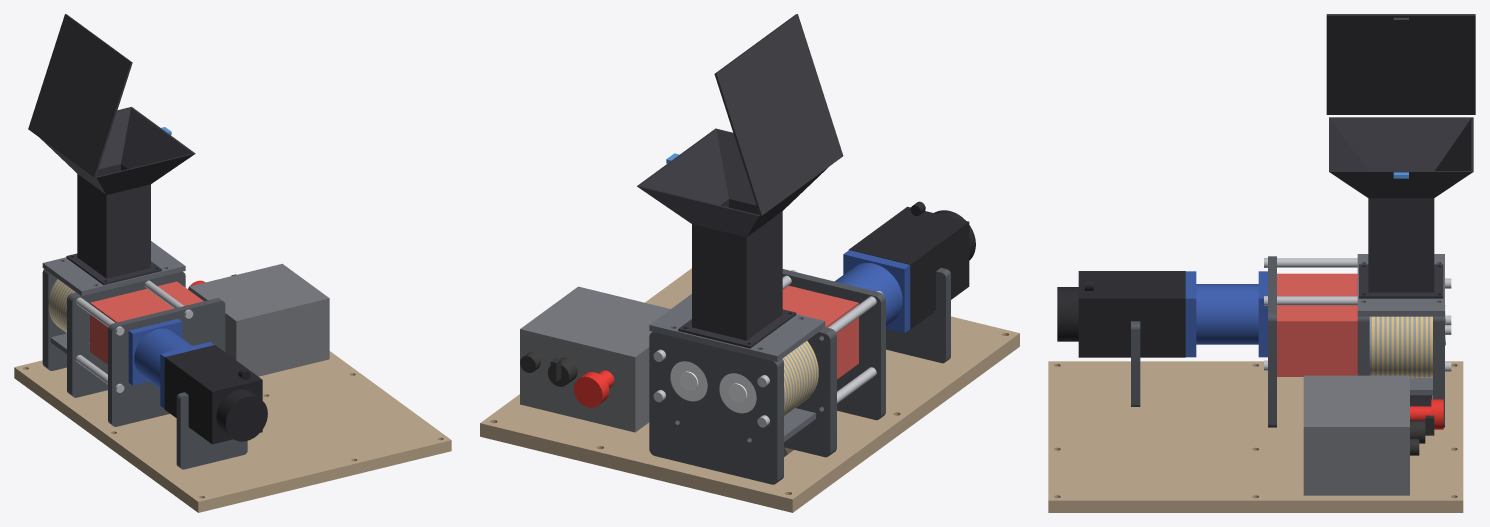
Rendered from shredder_assembly.fbx.
The picture shows the model from 3 angles, left to right: view 1: azimuth 30°, elevation 25°; view 2: azimuth 150°, elevation 25°; view 3: azimuth 270°, elevation 25°; orthographic projection. The views are drawn at different scales.
Parts seen in each view (by area): view 1: Base_Plate, Hopper_Throat_Guard, Controller_Enclosure, Hopper_Lid, Motor_NEMA34_ClosedLoop, Plate_Motor, Plate_Drive, Gearbox_Planetary_10to1, Gear_Guard, Motor_Cradle, Plate_Top, Plate_Far (+1 smaller); view 2: Base_Plate, Hopper_Throat_Guard, Hopper_Lid, Plate_Far, Controller_Enclosure, Motor_NEMA34_ClosedLoop, Plate_Motor, Plate_Drive, Plate_Top, Gearbox_Planetary_10to1, Motor_Cradle, Gear_Guard (+6 smaller); view 3: Base_Plate, Hopper_Throat_Guard, Hopper_Lid, Controller_Enclosure, Motor_NEMA34_ClosedLoop, Gear_Guard, Gearbox_Planetary_10to1, Plate_Top, Plate_Motor, Hopper_Flange, Plate_Far, Motor_Cradle (+5 smaller).
Boxes of the visible parts, left/top/right/bottom form: Base_Plate: left=14, top=351, right=451, bottom=512; Hopper_Throat_Guard: left=40, top=107, right=195, bottom=278; Controller_Enclosure: left=189, top=263, right=329, bottom=376; Hopper_Lid: left=28, top=14, right=132, bottom=177; Motor_NEMA34_ClosedLoop: left=164, top=345, right=267, bottom=444; Plate_Motor: left=108, top=298, right=225, bottom=426; Plate_Drive: left=67, top=271, right=185, bottom=397; Gearbox_Planetary_10to1: left=128, top=318, right=213, bottom=408; Gear_Guard: left=90, top=281, right=203, bottom=364; Motor_Cradle: left=176, top=392, right=247, bottom=469; Plate_Top: left=42, top=241, right=185, bottom=296; Plate_Far: left=42, top=269, right=66, bottom=370; Base_Plate: left=480, top=268, right=1019, bottom=512; Hopper_Throat_Guard: left=637, top=128, right=828, bottom=340; Hopper_Lid: left=714, top=14, right=843, bottom=215; Plate_Far: left=649, top=332, right=783, bottom=484; Controller_Enclosure: left=520, top=286, right=670, bottom=432; Motor_NEMA34_ClosedLoop: left=849, top=201, right=975, bottom=329; Plate_Motor: left=782, top=269, right=885, bottom=420; Plate_Drive: left=784, top=327, right=836, bottom=457; Plate_Top: left=649, top=294, right=825, bottom=361; Gearbox_Planetary_10to1: left=834, top=250, right=910, bottom=333; Motor_Cradle: left=886, top=268, right=950, bottom=363; Gear_Guard: left=782, top=285, right=858, bottom=379; Base_Plate: left=1048, top=361, right=1463, bottom=512; Hopper_Throat_Guard: left=1329, top=117, right=1473, bottom=292; Hopper_Lid: left=1326, top=14, right=1475, bottom=114; Controller_Enclosure: left=1303, top=375, right=1409, bottom=495; Motor_NEMA34_ClosedLoop: left=1057, top=271, right=1185, bottom=357; Gear_Guard: left=1277, top=273, right=1357, bottom=376; Gearbox_Planetary_10to1: left=1185, top=271, right=1267, bottom=357; Plate_Top: left=1357, top=254, right=1444, bottom=316; Plate_Motor: left=1268, top=256, right=1276, bottom=427; Hopper_Flange: left=1359, top=264, right=1443, bottom=298; Plate_Far: left=1433, top=316, right=1444, bottom=427; Motor_Cradle: left=1131, top=321, right=1140, bottom=406.
Size of the model in its own units: 43.4 by 56.7 by 56.26.
